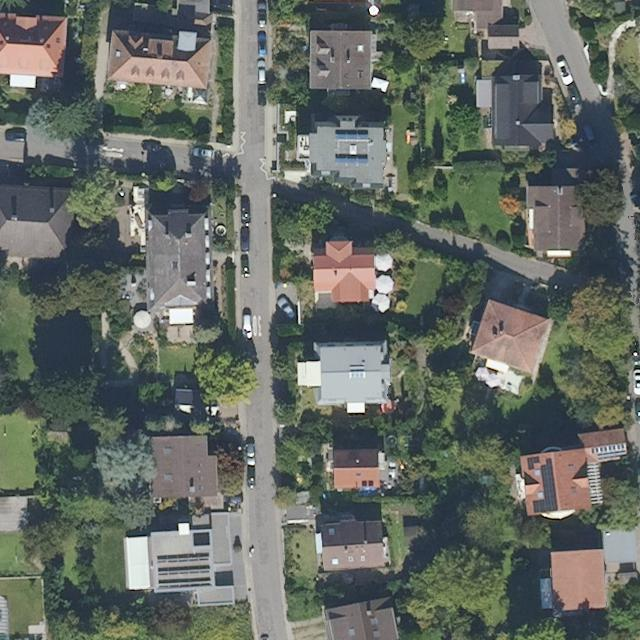PV: (531, 457, 559, 514), (157, 576, 213, 590), (156, 564, 211, 577), (156, 553, 209, 565), (526, 455, 541, 472)
